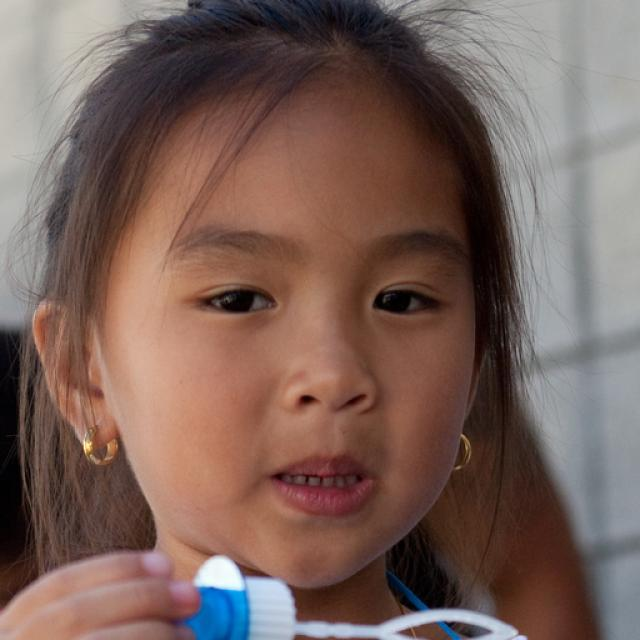surprise: (117, 77, 487, 590)
